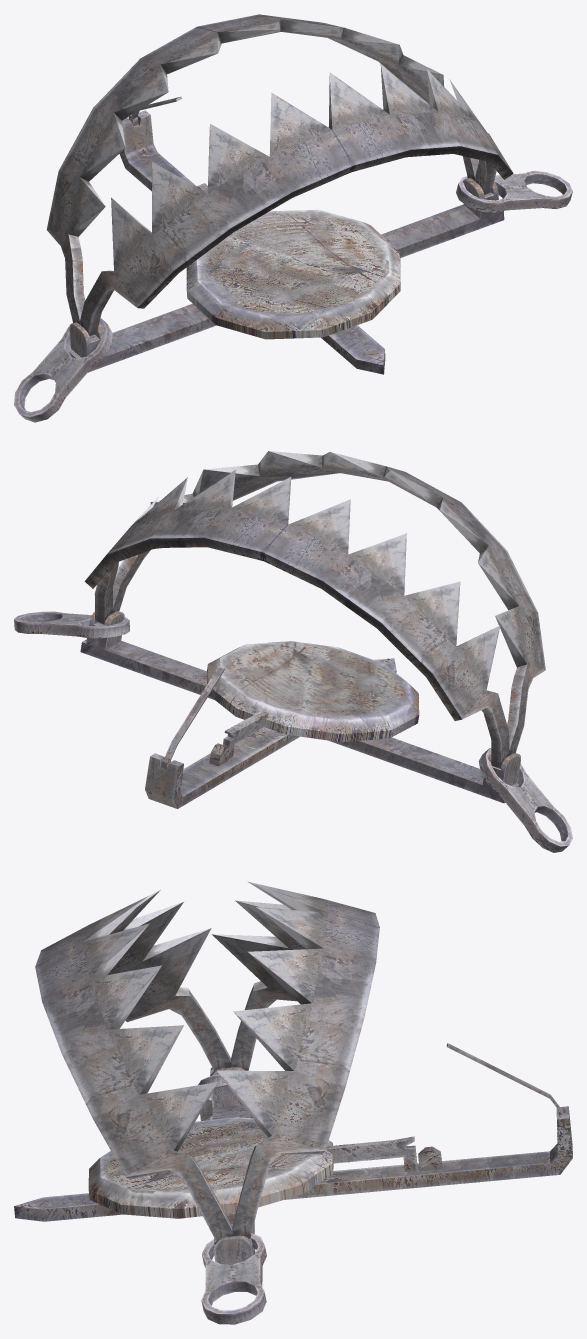
The picture shows the model from 3 angles, top to bottom: view 1: azimuth 30°, elevation 25°; view 2: azimuth 150°, elevation 25°; view 3: azimuth 270°, elevation 25°; orthographic projection. The views are drawn at different scales.
Parts seen in each view (by area): view 1: Trap_LeftSide, Trap_Center, Trap_RightSide, Trap_Cross, Trap_1; view 2: Trap_RightSide, Trap_Center, Trap_LeftSide, Trap_Cross, Trap_1, Trap_4, Trap_3; view 3: Trap_LeftSide, Trap_RightSide, Trap_Center, Trap_Cross, Trap_1, Trap_4, Trap_3.
Part boxes in pixels (bbox=[...]): Trap_LeftSide: bbox=[80, 64, 513, 336]; Trap_Center: bbox=[186, 209, 400, 339]; Trap_RightSide: bbox=[46, 14, 478, 325]; Trap_Cross: bbox=[69, 110, 504, 374]; Trap_1: bbox=[14, 171, 572, 422]; Trap_RightSide: bbox=[84, 469, 509, 768]; Trap_Center: bbox=[206, 641, 419, 742]; Trap_LeftSide: bbox=[113, 451, 545, 755]; Trap_Cross: bbox=[80, 611, 520, 808]; Trap_1: bbox=[14, 611, 572, 852]; Trap_4: bbox=[222, 710, 268, 758]; Trap_3: bbox=[165, 666, 224, 765]; Trap_LeftSide: bbox=[35, 890, 234, 1241]; Trap_RightSide: bbox=[212, 881, 379, 1239]; Trap_Center: bbox=[88, 1117, 333, 1218]; Trap_Cross: bbox=[14, 1067, 572, 1264]; Trap_1: bbox=[198, 1074, 266, 1324]; Trap_4: bbox=[326, 1136, 417, 1171]; Trap_3: bbox=[446, 1043, 564, 1114].
Bounding box in the file's own units: 145 × 80.15 × 111.
1 material, 1 textured.
